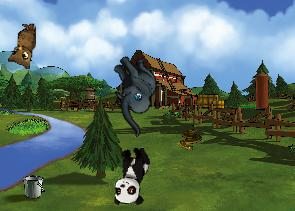elephant: (90, 48, 178, 137)
owl: (7, 22, 36, 69)
panda: (111, 144, 151, 207)
